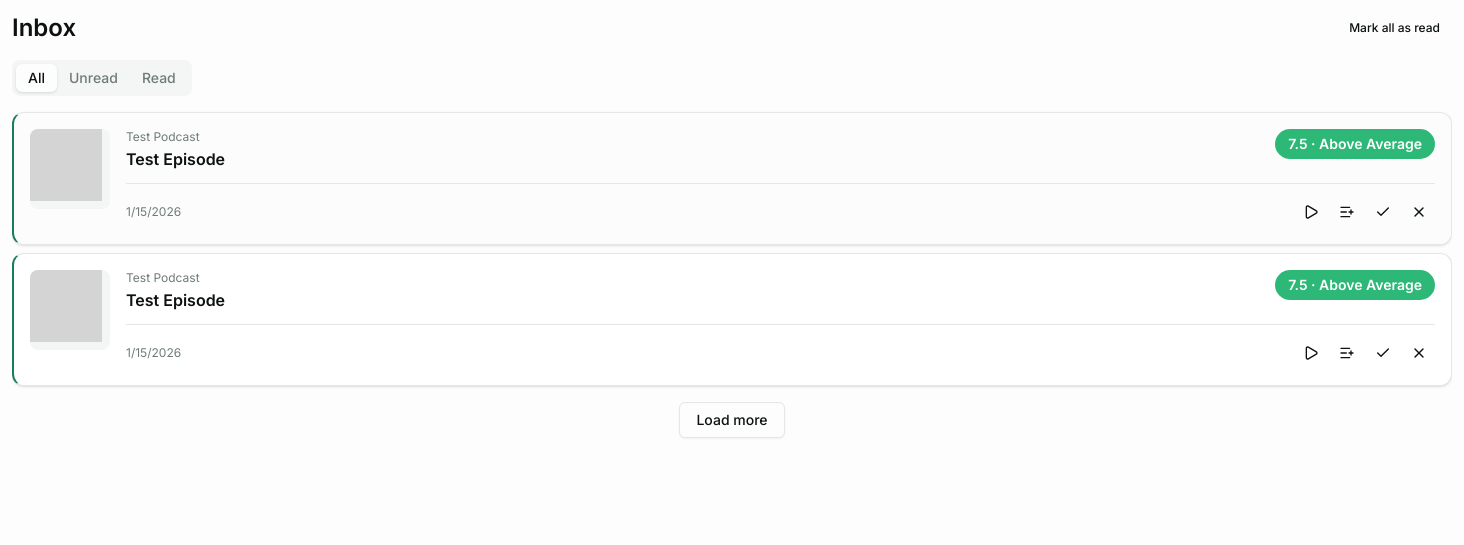
it: NotificationPageList › Load more fetches listened state and seeds it into the newly appended rows
Click the button "Load more": (732,420) [679, 402, 784, 438]
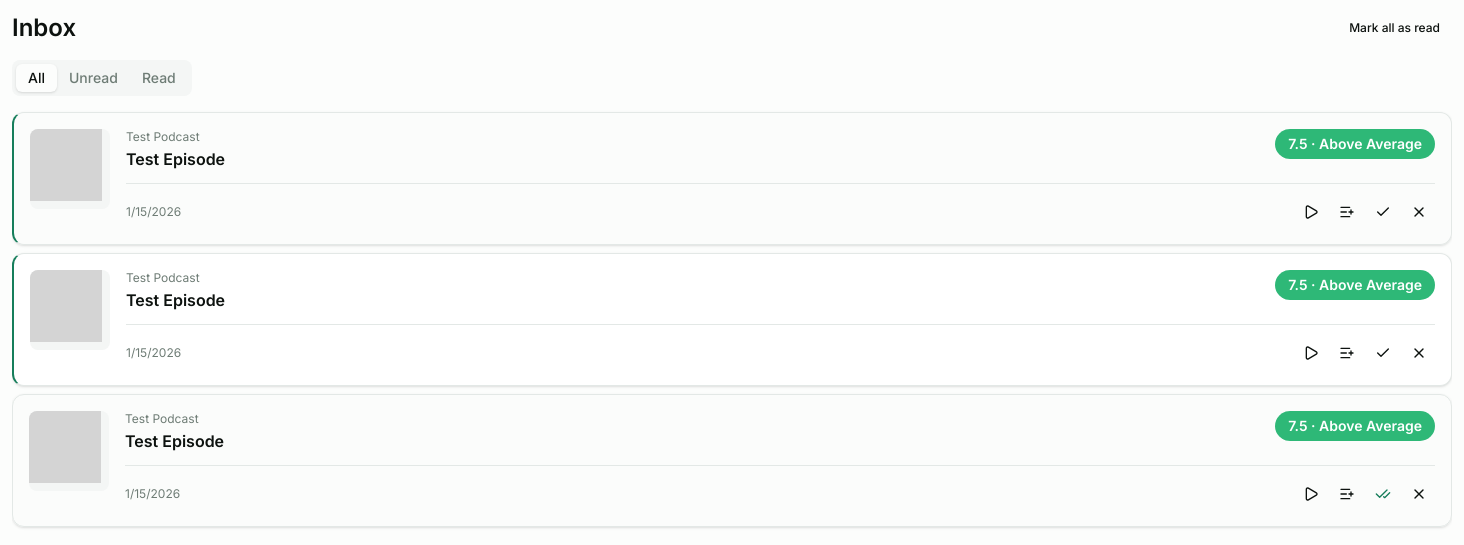
Check: the element named "already listened" is shown, box [1375, 486, 1391, 502]
